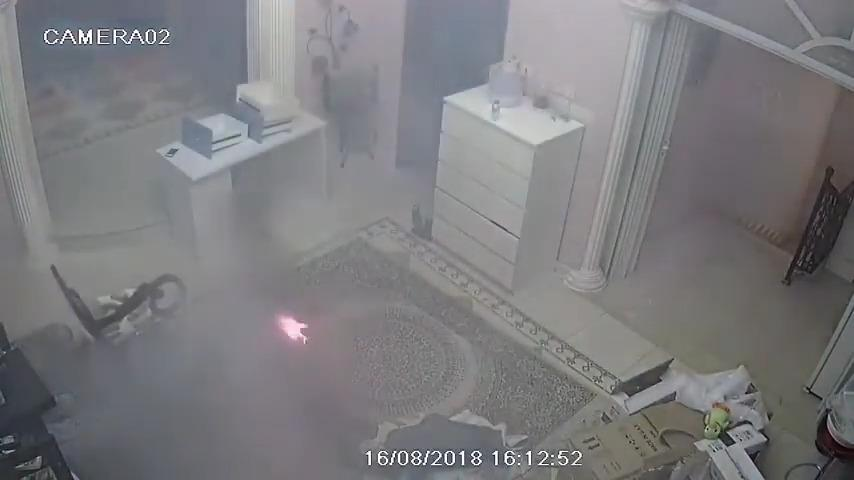fire: (278, 315, 307, 344)
